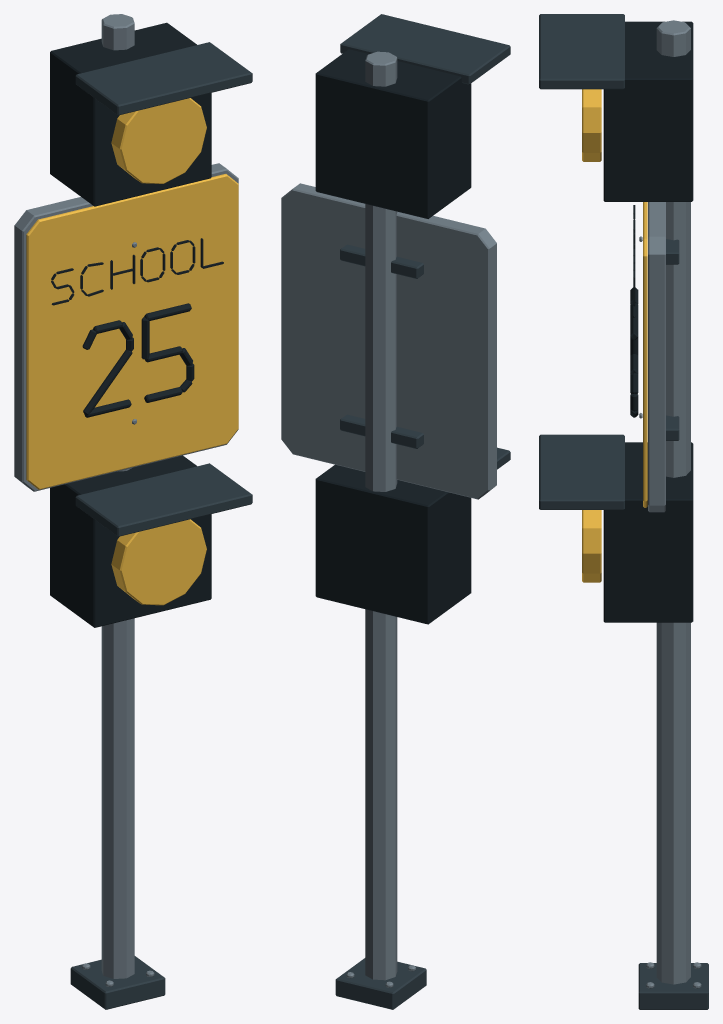
Rendered from b02_flashing_school_beacon.glb.
3 renders of one model, left to right at view 1: azimuth 30°, elevation 25°; view 2: azimuth 150°, elevation 25°; view 3: azimuth 270°, elevation 25°, orthographic. The views are drawn at different scales.
Visible parts, largest first — view 1: b02_flashing_school_beacon; view 2: b02_flashing_school_beacon; view 3: b02_flashing_school_beacon.
Part boxes in pixels (box(x1,y1,x2,y2)): b02_flashing_school_beacon: box(14, 14, 252, 1009); b02_flashing_school_beacon: box(281, 14, 510, 1009); b02_flashing_school_beacon: box(539, 14, 708, 1009).
Bounding box in the file's own units: 0.64 × 2.74 × 0.435.
